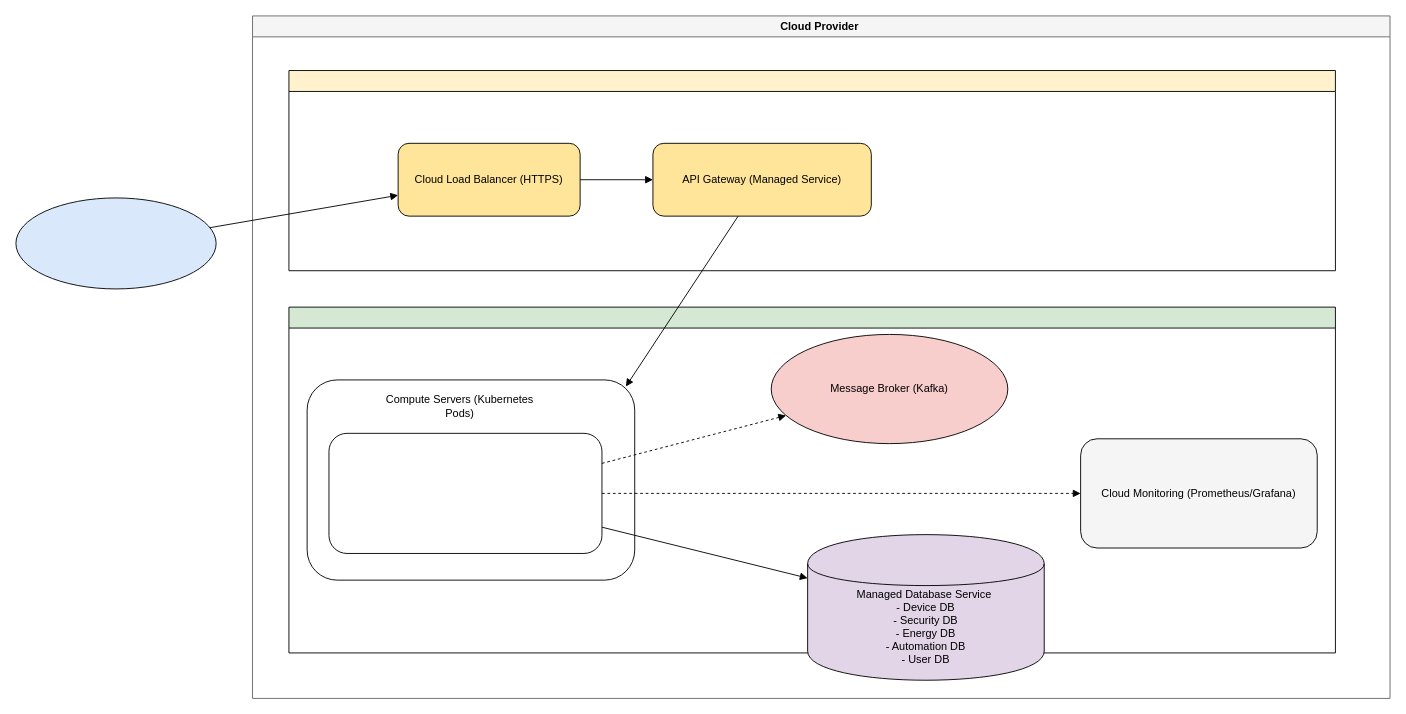
Image size: 1406x714. Some labels were removed from this diagram. Here are the shapes that lost their labels. From the top down, the box of each, then its label:
(288, 70, 1335, 271): Public Subnet
(15, 197, 216, 289): Internet (Users & IoT Devices)
(328, 432, 602, 553): Microservices - Device Manager - Security & Alert - Energy - Automation
(288, 306, 1335, 653): Private Subnet
